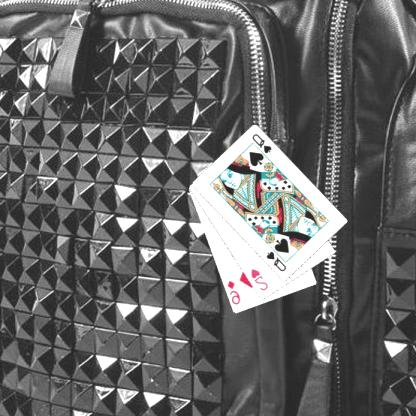2H: (250, 266, 271, 292)
9D: (226, 278, 243, 306)
QS: (251, 132, 275, 156), (266, 249, 290, 272)
